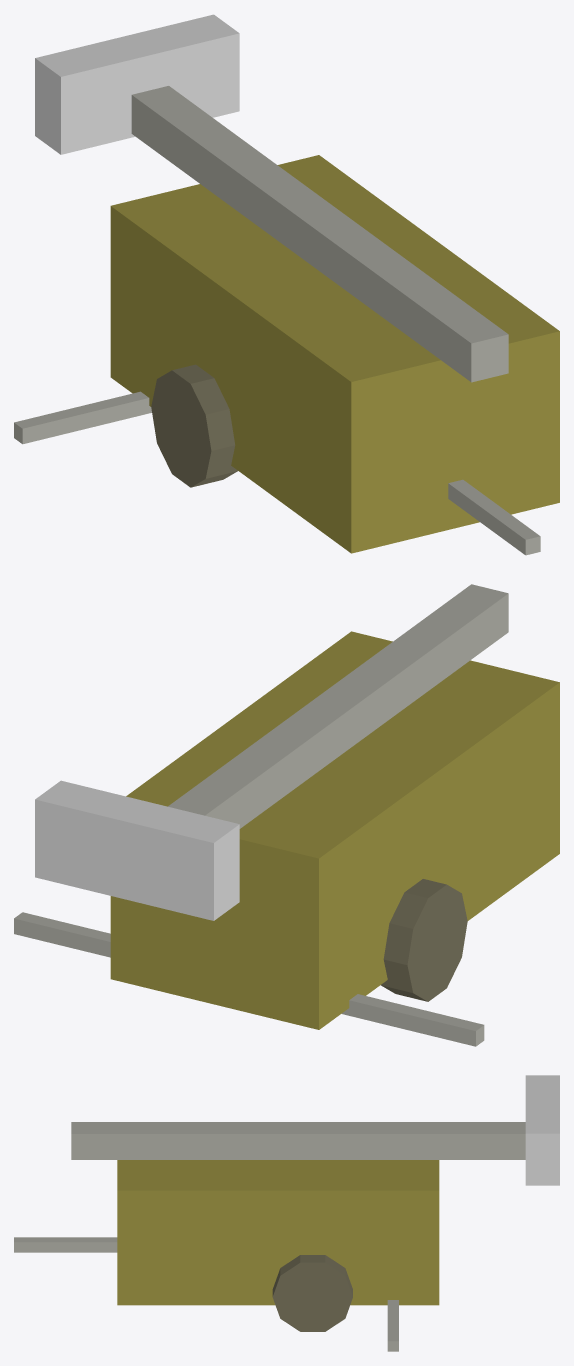
File: SM_TorreLuz_v1_Plegada_LOD0.fbx
The picture shows the model from 3 angles, top to bottom: view 1: azimuth 30°, elevation 25°; view 2: azimuth 150°, elevation 25°; view 3: azimuth 270°, elevation 25°; orthographic projection. The views are drawn at different scales.
Parts seen in each view (by area): view 1: SM_ambiente_aerodromo_v16_LOD0; view 2: SM_ambiente_aerodromo_v16_LOD0; view 3: SM_ambiente_aerodromo_v16_LOD0.
Part boxes in pixels (x1=…): SM_ambiente_aerodromo_v16_LOD0: x1=14, y1=14, x2=559, y2=555; SM_ambiente_aerodromo_v16_LOD0: x1=14, y1=584, x2=559, y2=1046; SM_ambiente_aerodromo_v16_LOD0: x1=14, y1=1075, x2=559, y2=1351.
Size of the model in its own units: 3.1 by 1.78 by 4.75.
